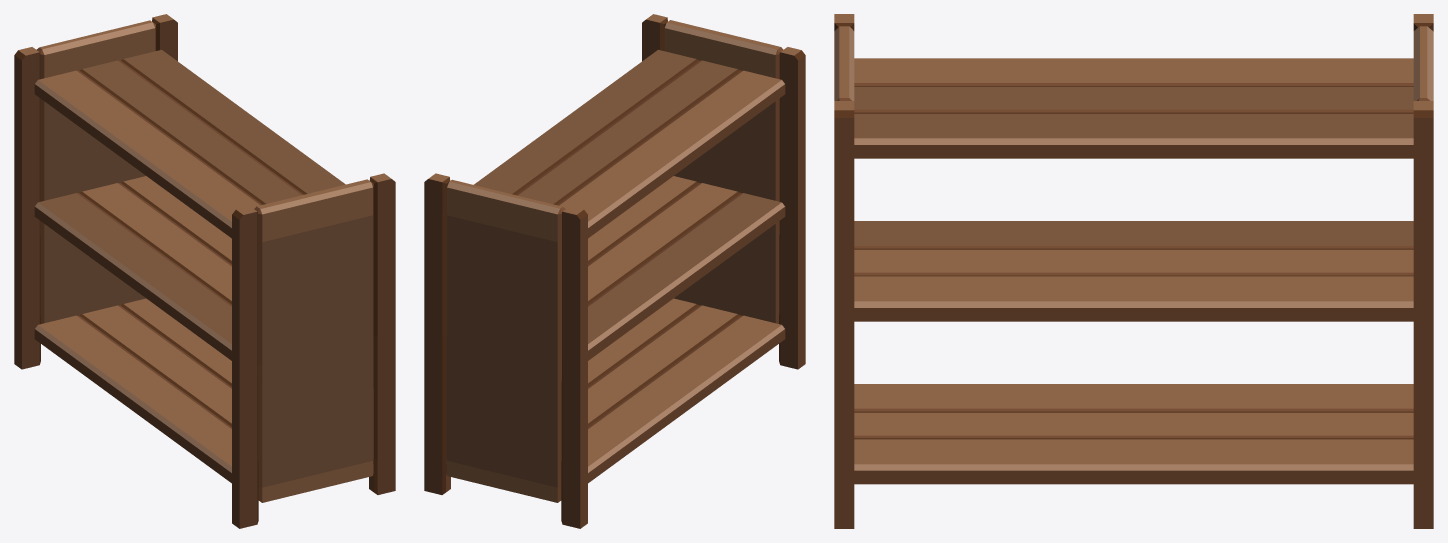
The model's file is shelves_empty.fbx.
3 renders of one model, left to right at view 1: azimuth 30°, elevation 25°; view 2: azimuth 150°, elevation 25°; view 3: azimuth 270°, elevation 25°, orthographic. The views are drawn at different scales.
Visible parts, largest first — view 1: shelves_empty; view 2: shelves_empty; view 3: shelves_empty.
Part boxes in pixels (<box>): shelves_empty: <box>14,14,395,528</box>; shelves_empty: <box>424,14,805,528</box>; shelves_empty: <box>834,14,1433,528</box>.
Size of the model in its own units: 120 by 230 by 300.
